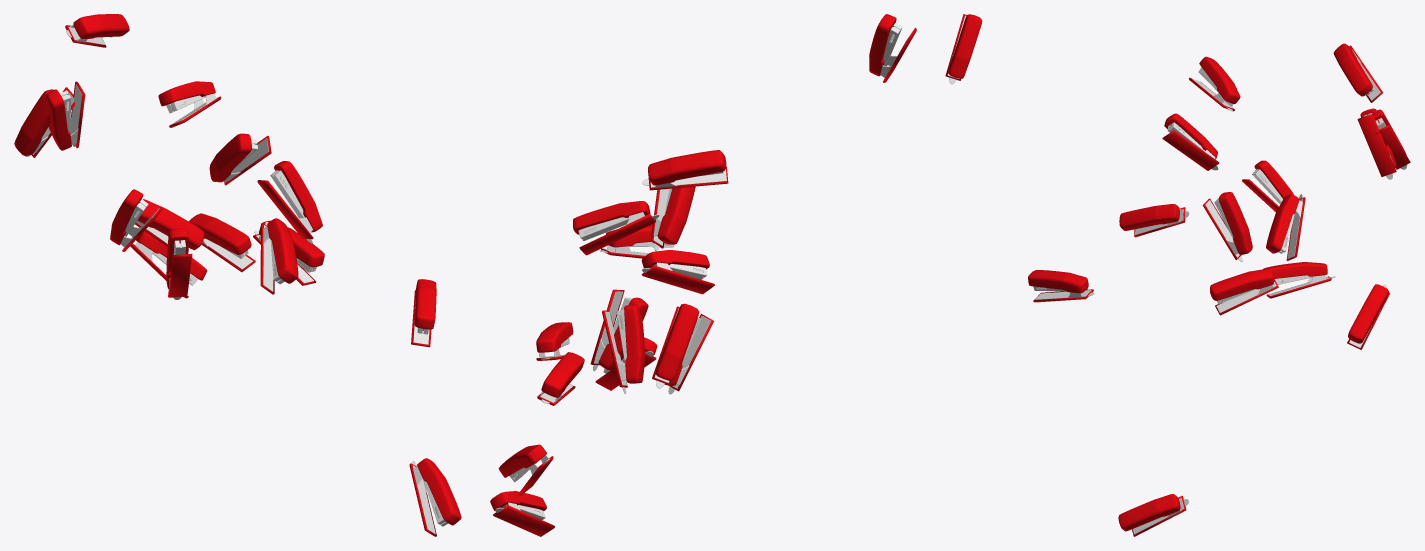
Rendered from staplers.glb.
3 views of the same model, side by side, from view 1: azimuth 30°, elevation 25°; view 2: azimuth 150°, elevation 25°; view 3: azimuth 270°, elevation 25° (orthographic). The views are drawn at different scales.
Parts seen in each view (by area): view 1: 立方体.386, 立方体.422, 立方体.143, 立方体.212, 立方体.177, 立方体.282, 立方体.001, 立方体.494, 立方体.352, 立方体.107, 立方体.036, 立方体.073 (+3 smaller); view 2: 立方体.352, 立方体.107, 立方体.494, 立方体.143, 立方体.177, 立方体.036, 立方体.422, 立方体.386, 立方体.282, 立方体.212, 立方体.317, 立方体.001 (+3 smaller); view 3: 立方体.247, 立方体.001, 立方体.073, 立方体.177, 立方体.457, 立方体.422, 立方体.143, 立方体.386, 立方体.212, 立方体.107, 立方体.352, 立方体.317 (+3 smaller).
Boxes of the visible parts, x1,y1,x2,y2 form: 立方体.386: [257, 161, 322, 243]; 立方体.422: [409, 458, 461, 536]; 立方体.143: [260, 218, 298, 294]; 立方体.212: [189, 213, 255, 272]; 立方体.177: [209, 133, 271, 185]; 立方体.282: [46, 81, 85, 150]; 立方体.001: [166, 228, 192, 299]; 立方体.494: [14, 87, 75, 157]; 立方体.352: [65, 14, 129, 47]; 立方体.107: [158, 81, 221, 127]; 立方体.036: [110, 189, 162, 251]; 立方体.073: [135, 199, 204, 250]; 立方体.352: [573, 201, 659, 255]; 立方体.107: [642, 150, 728, 190]; 立方体.494: [602, 305, 645, 393]; 立方体.143: [641, 250, 714, 294]; 立方体.177: [650, 186, 695, 251]; 立方体.036: [652, 303, 699, 388]; 立方体.422: [490, 491, 554, 536]; 立方体.386: [869, 14, 916, 82]; 立方体.282: [590, 289, 648, 371]; 立方体.212: [537, 352, 584, 405]; 立方体.317: [498, 444, 553, 495]; 立方体.001: [664, 314, 713, 394]; 立方体.247: [1210, 268, 1281, 315]; 立方体.001: [1203, 192, 1252, 261]; 立方体.073: [1266, 194, 1305, 260]; 立方体.177: [1162, 113, 1219, 170]; 立方体.457: [1028, 270, 1094, 302]; 立方体.422: [1118, 494, 1189, 536]; 立方体.143: [1119, 204, 1189, 237]; 立方体.386: [945, 14, 982, 84]; 立方体.212: [1263, 262, 1335, 298]; 立方体.107: [1189, 56, 1240, 111]; 立方体.352: [1333, 43, 1383, 102]; 立方体.317: [1347, 284, 1390, 349].
Size of the model in its own units: 25.03 by 40.79 by 40.81.
